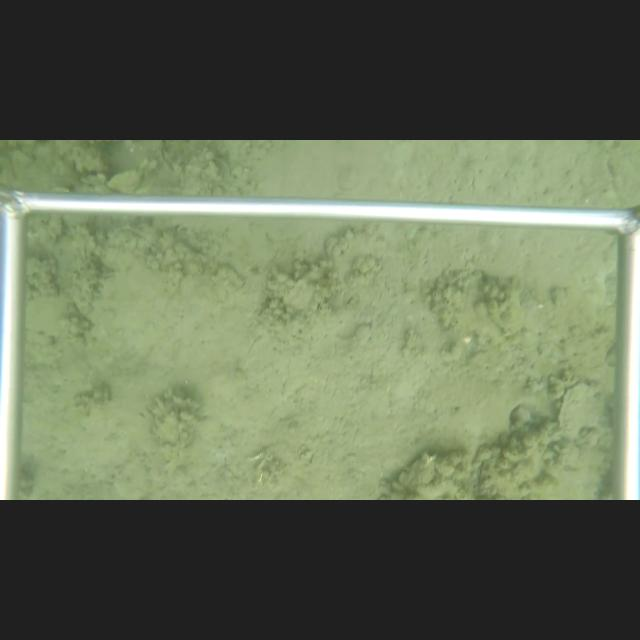Oyster-Closed: (555, 378, 613, 444)
